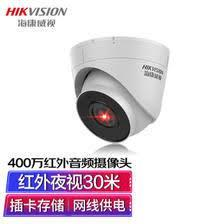maru: (71, 36, 171, 146)
